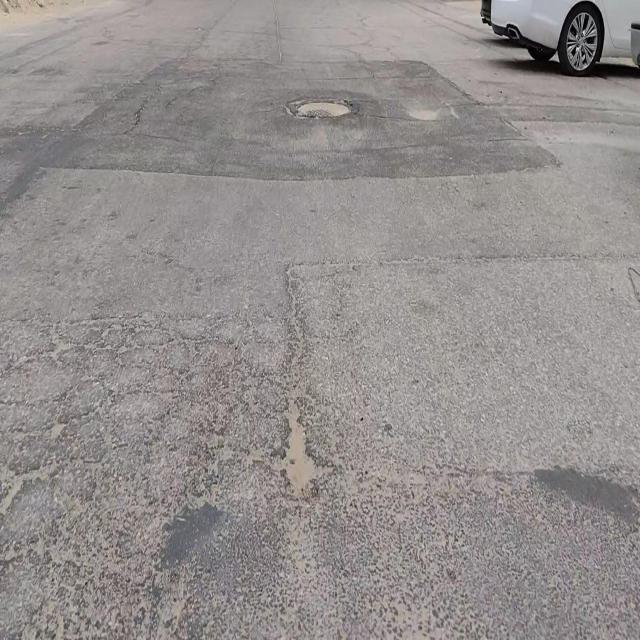Pothole: (282, 398, 318, 496), (294, 98, 352, 120)
